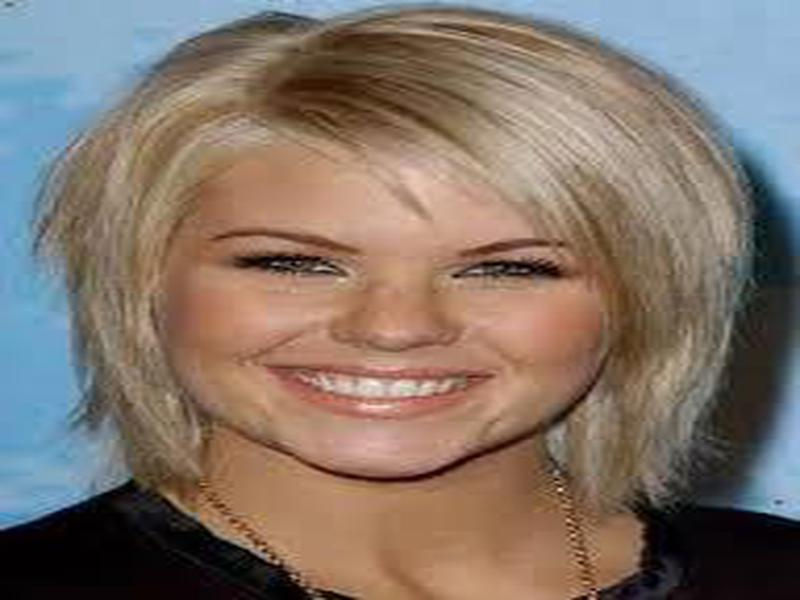without_mask: (168, 127, 600, 482)
